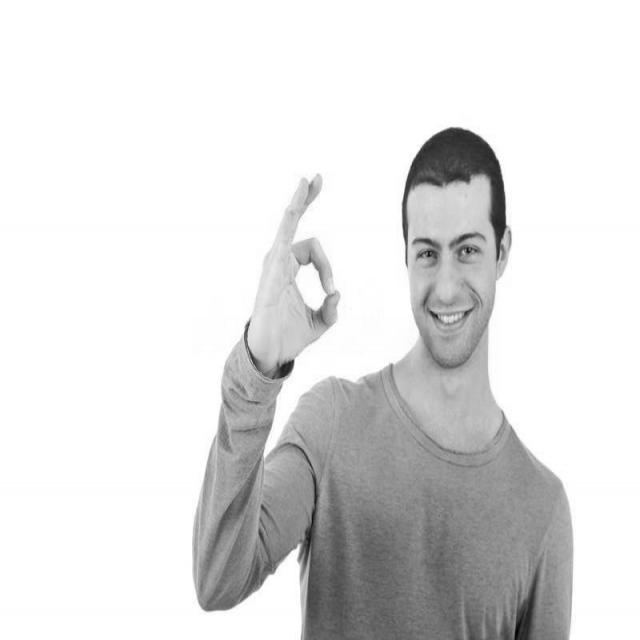perfect: (245, 166, 344, 379)
